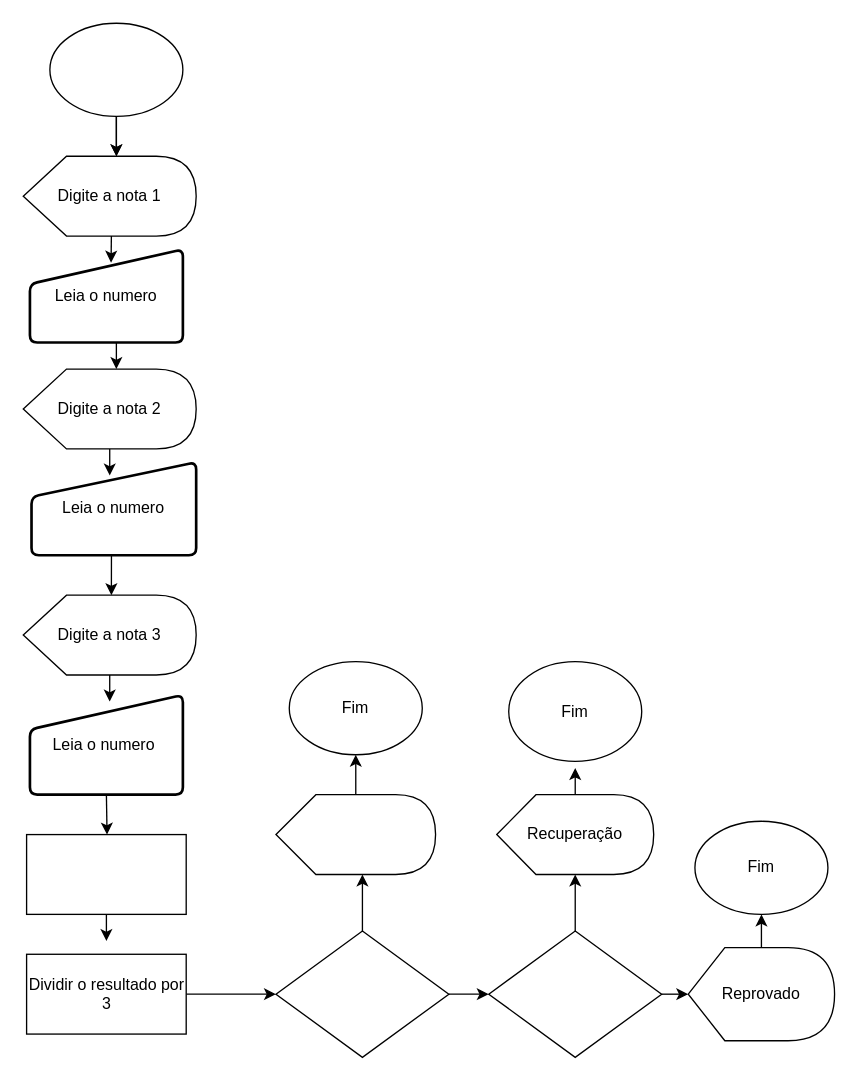
The diagram is 858 pixels wide and 1081 high, and some of its shapes have lost their labels. The shapes that lost their labels are listed below. From the top down, each one's centre as x and y in pixels, then its label:
point 116,69: Inicio
point 355,833: Aprovado
point 105,873: Somar os 3 numeros
point 362,993: Resultado > ou = 7?
point 574,993: Resultado > ou =5?
